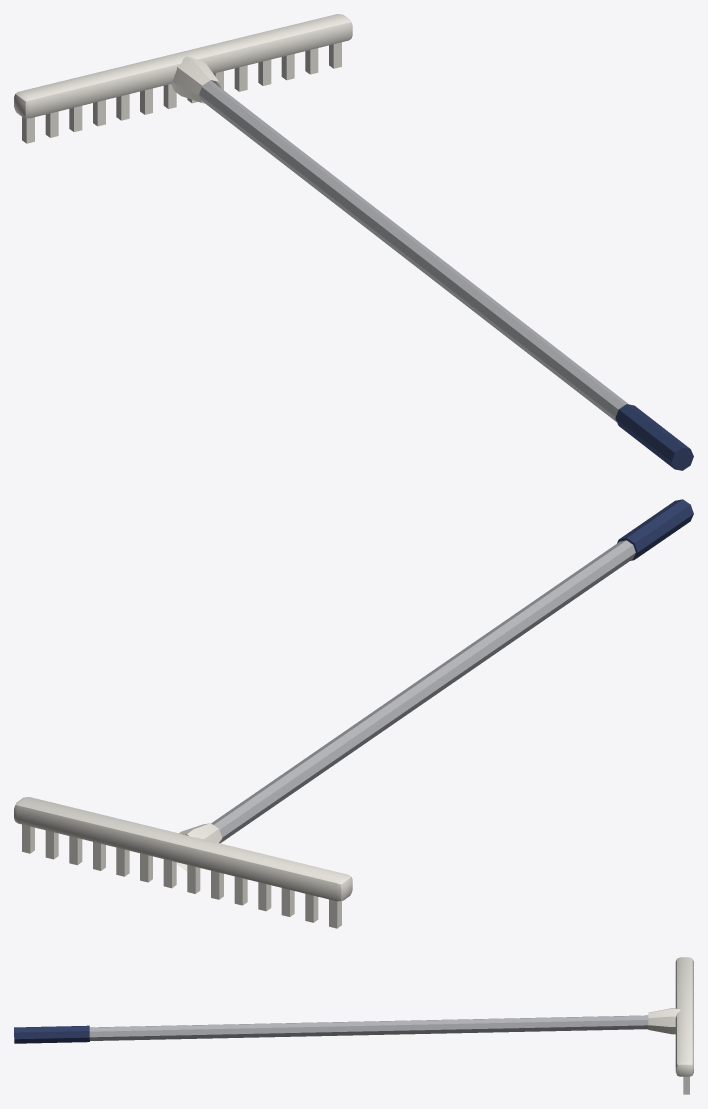
The model's file is BunkerRake.fbx.
3 renders of one model, top to bottom at view 1: azimuth 30°, elevation 25°; view 2: azimuth 150°, elevation 25°; view 3: azimuth 270°, elevation 25°, orthographic. The views are drawn at different scales.
Parts seen in each view (by area): view 1: BunkerRake; view 2: BunkerRake; view 3: BunkerRake.
Part boxes in pixels (left/top/right/bottom): BunkerRake: left=14, top=14, right=693, bottom=470; BunkerRake: left=14, top=499, right=693, bottom=928; BunkerRake: left=14, top=957, right=693, bottom=1094.
Size of the model in its own units: 0.56 by 0.0835 by 1.49.
